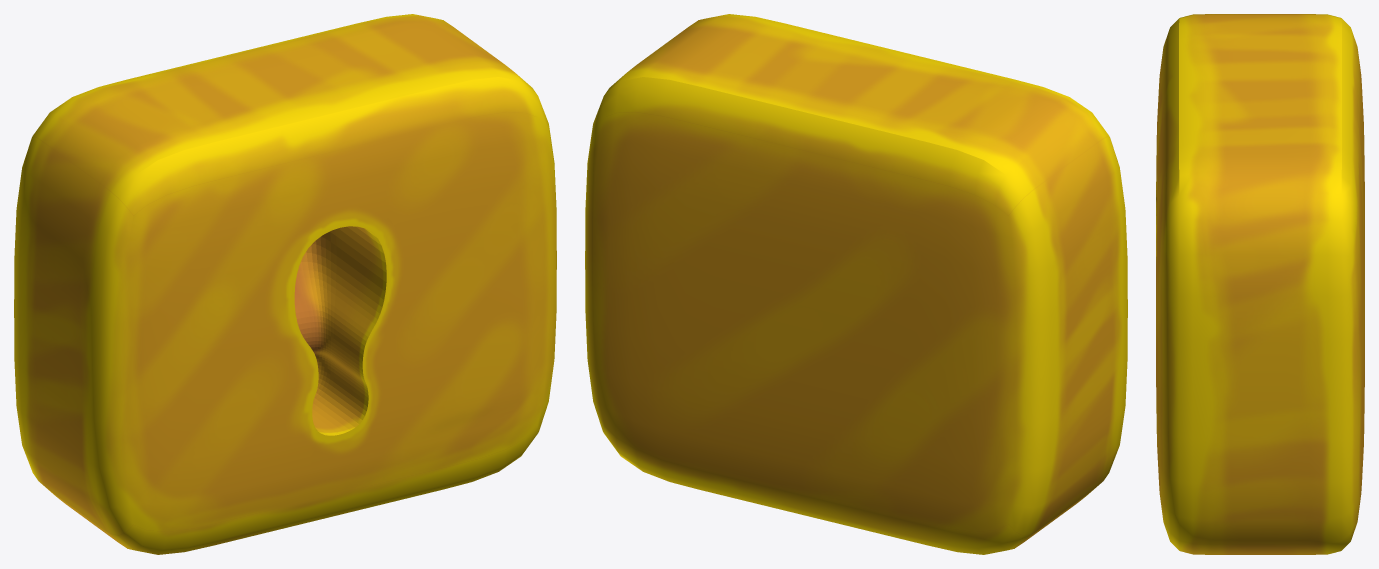
The model's file is sandik_klit_.fbx.
3 renders of one model, left to right at view 1: azimuth 30°, elevation 25°; view 2: azimuth 150°, elevation 25°; view 3: azimuth 270°, elevation 25°, orthographic. The views are drawn at different scales.
Parts seen in each view (by area): view 1: kilit; view 2: kilit; view 3: kilit.
Boxes of the visible parts, box(x1,y1,x2,y2) form: kilit: box(14, 14, 556, 554); kilit: box(585, 14, 1127, 554); kilit: box(1156, 14, 1364, 554).
Size of the model in its own units: 0.3646 by 0.1511 by 0.3109.
